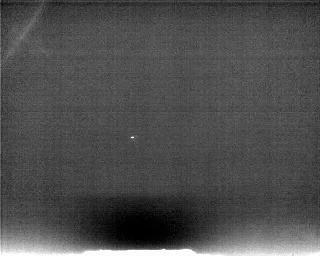BIRD: (128, 133, 137, 143)
